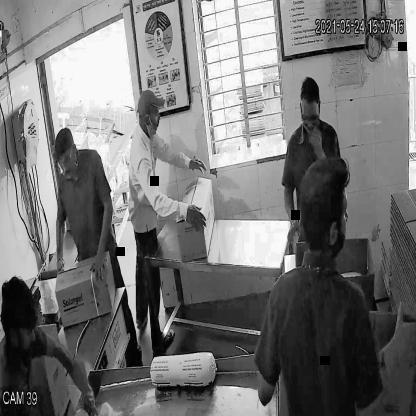no_goggles: (138, 107, 161, 124)
